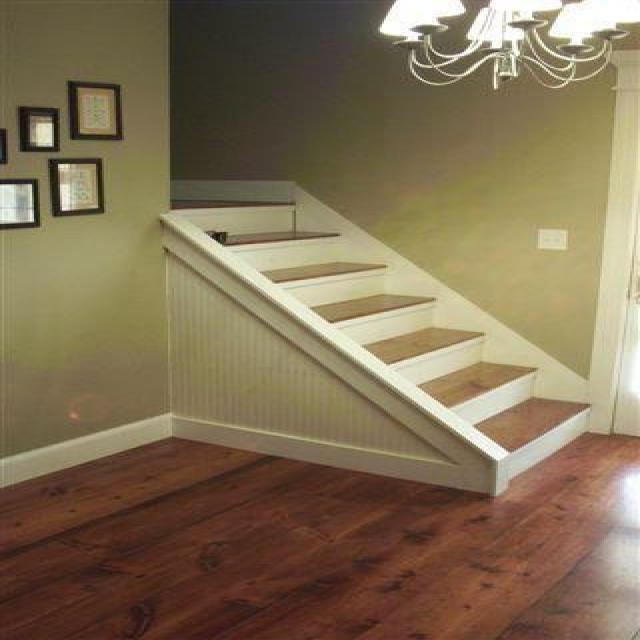cupboard: (158, 179, 592, 497)
door: (584, 47, 638, 437)
lamps: (376, 0, 638, 91)
windows: (48, 156, 104, 216), (0, 177, 38, 228), (18, 105, 60, 151)
